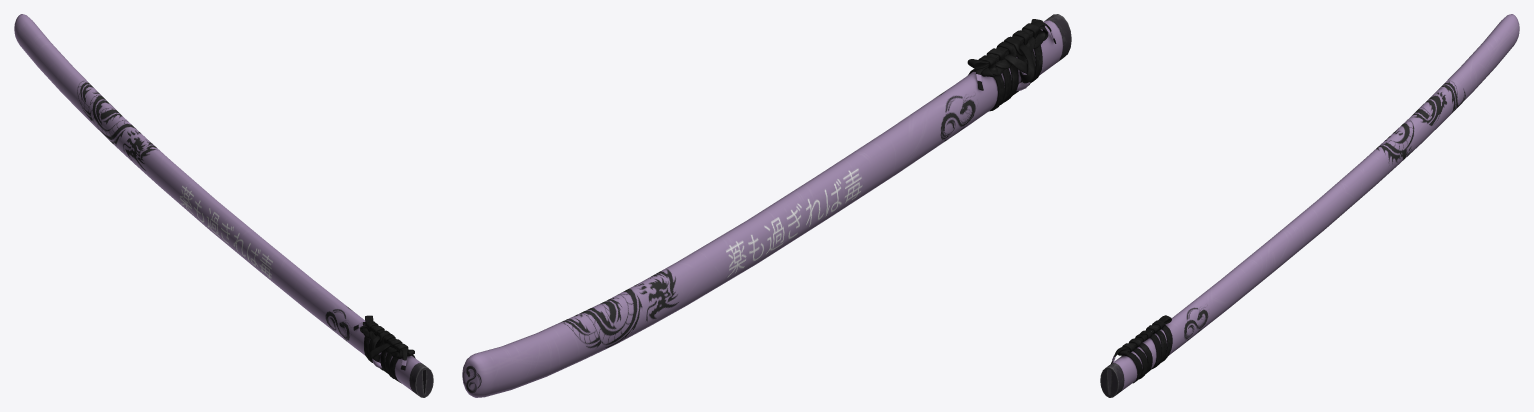
Rendered from Saya.fbx.
3 renders of one model, left to right at view 1: azimuth 30°, elevation 25°; view 2: azimuth 150°, elevation 25°; view 3: azimuth 330°, elevation 25°, orthographic. The views are drawn at different scales.
Visible parts, largest first — view 1: SayaKatana; view 2: SayaKatana; view 3: SayaKatana.
Boxes of the visible parts, x1=… form: SayaKatana: x1=14, y1=14, x2=433, y2=397; SayaKatana: x1=462, y1=14, x2=1071, y2=397; SayaKatana: x1=1100, y1=14, x2=1519, y2=397.
Size of the model in its own units: 0.0296 by 0.0881 by 0.7154.
